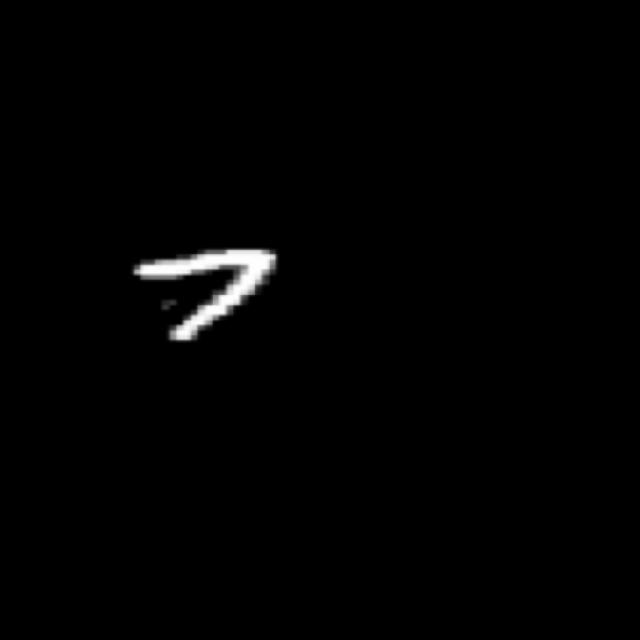seven -7-: (125, 240, 282, 345)
